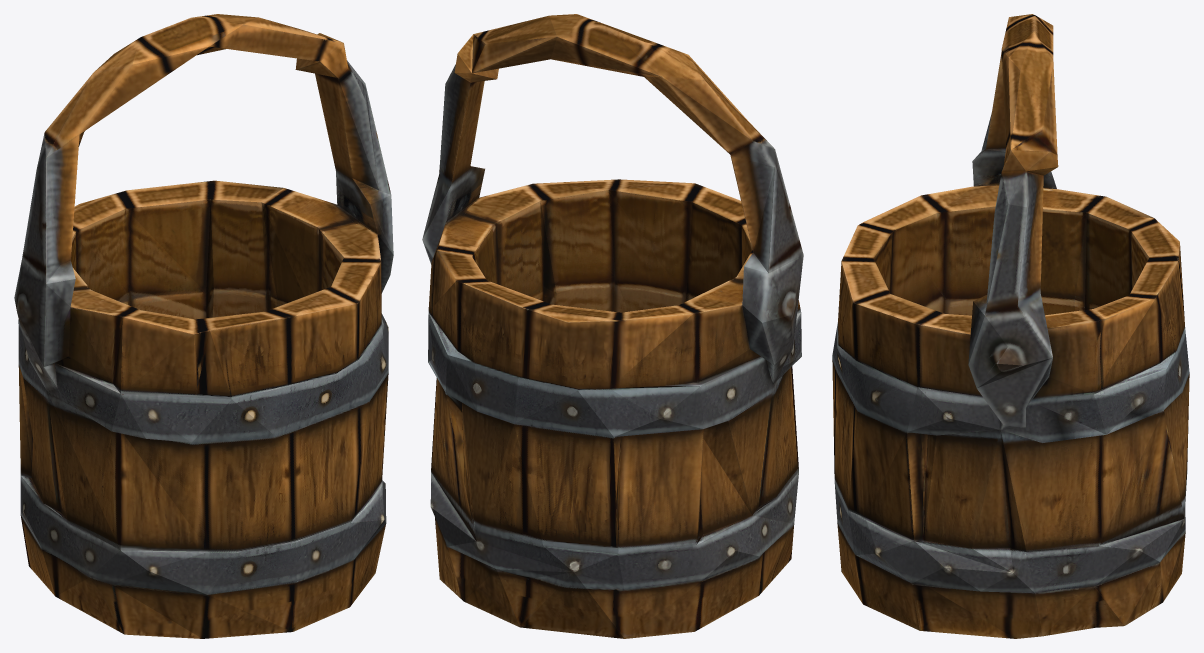
File: Meshy_AI_Wooden_Bucket_with_Me_0724184559_texture.fbx
3 views of the same model, side by side, from view 1: azimuth 30°, elevation 25°; view 2: azimuth 150°, elevation 25°; view 3: azimuth 270°, elevation 25° (orthographic).
Parts seen in each view (by area): view 1: mesh_node; view 2: mesh_node; view 3: mesh_node.
Boxes of the visible parts, box(x1,y1,x2,y2) form: mesh_node: box(14, 14, 393, 638); mesh_node: box(422, 14, 803, 638); mesh_node: box(832, 14, 1189, 638).
Bounding box in the file's own units: 132 × 190 × 114.
Materials: 1 (1 with a texture image).
